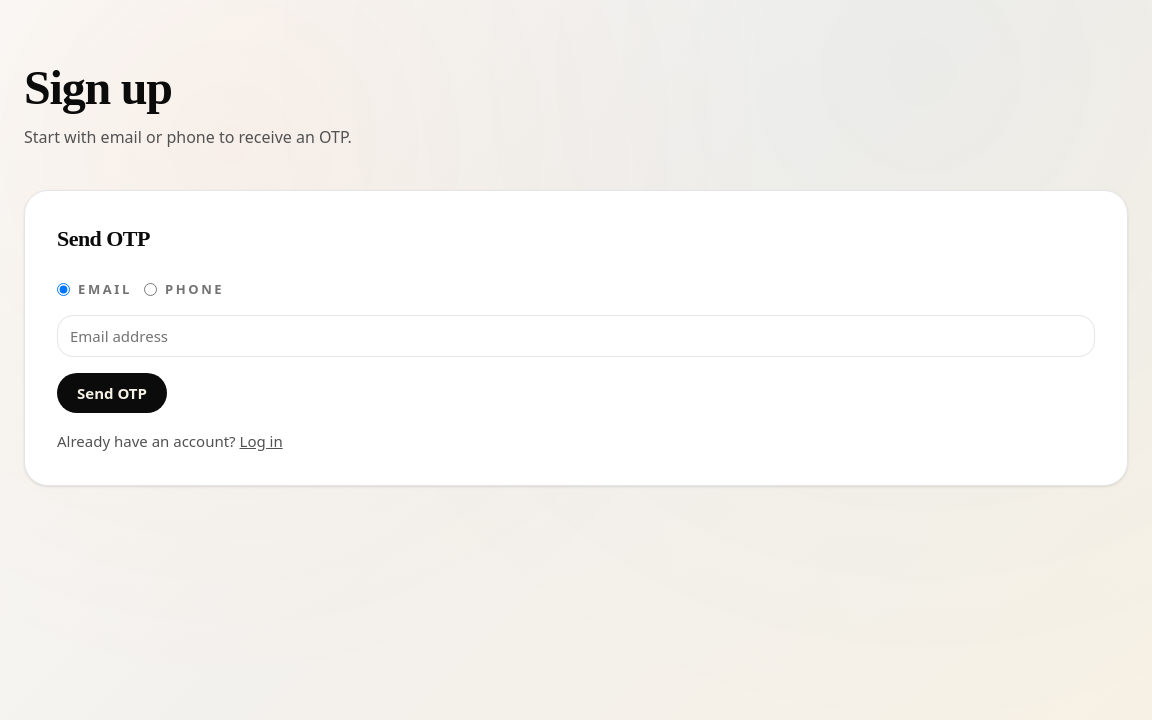
Test case: SignupPage › switches to phone mode and surfaces server errors
Click the radio button labelled "Phone": (150, 289) [144,282,157,296]
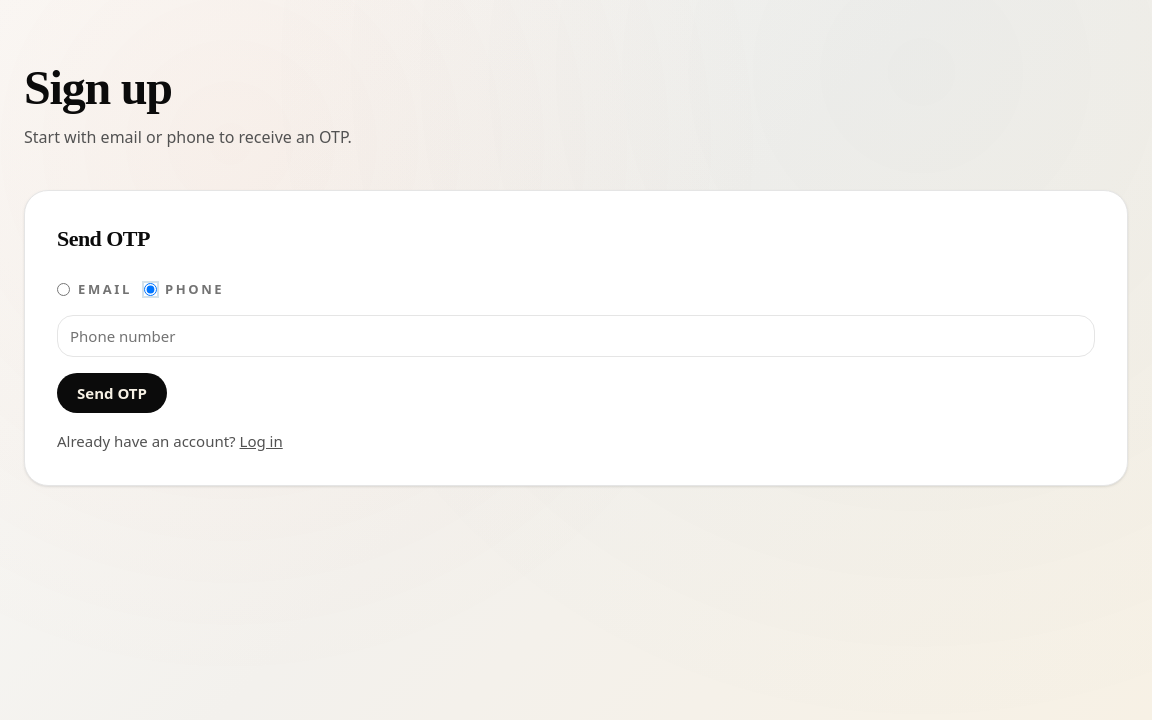
In the field with placeholder "Phone number": (576, 336) [57,315,1095,357], type "9876543210"
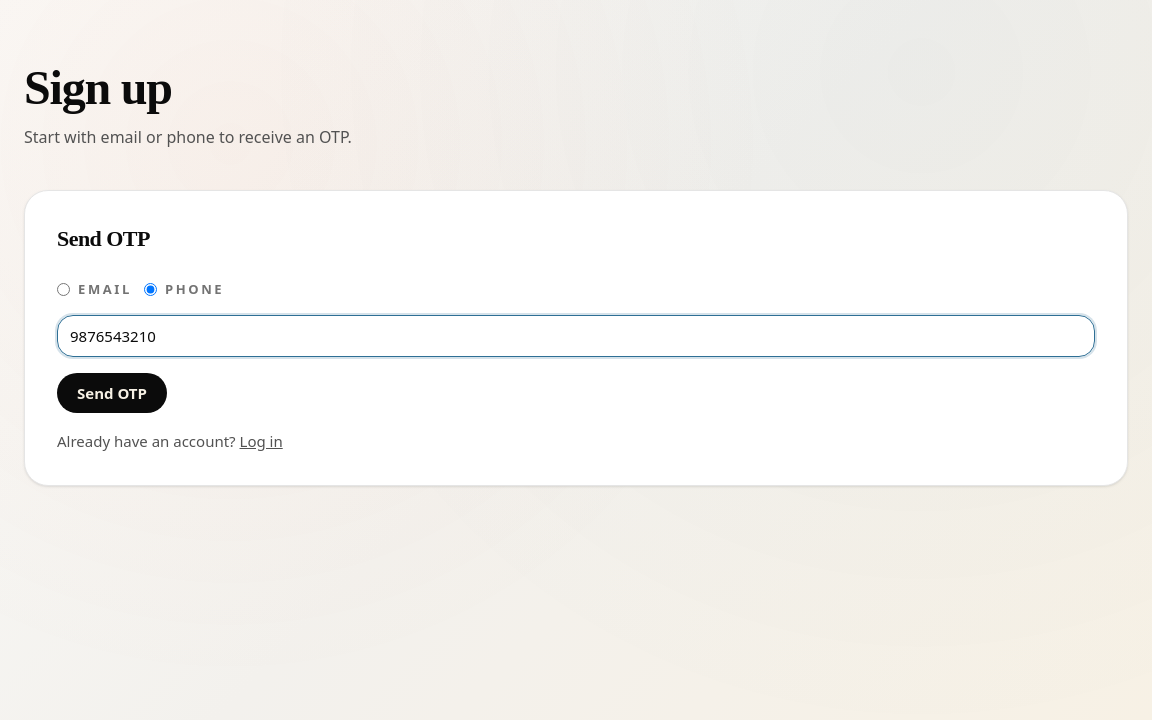
Click the button "Send OTP": (112, 393) [57,373,167,413]
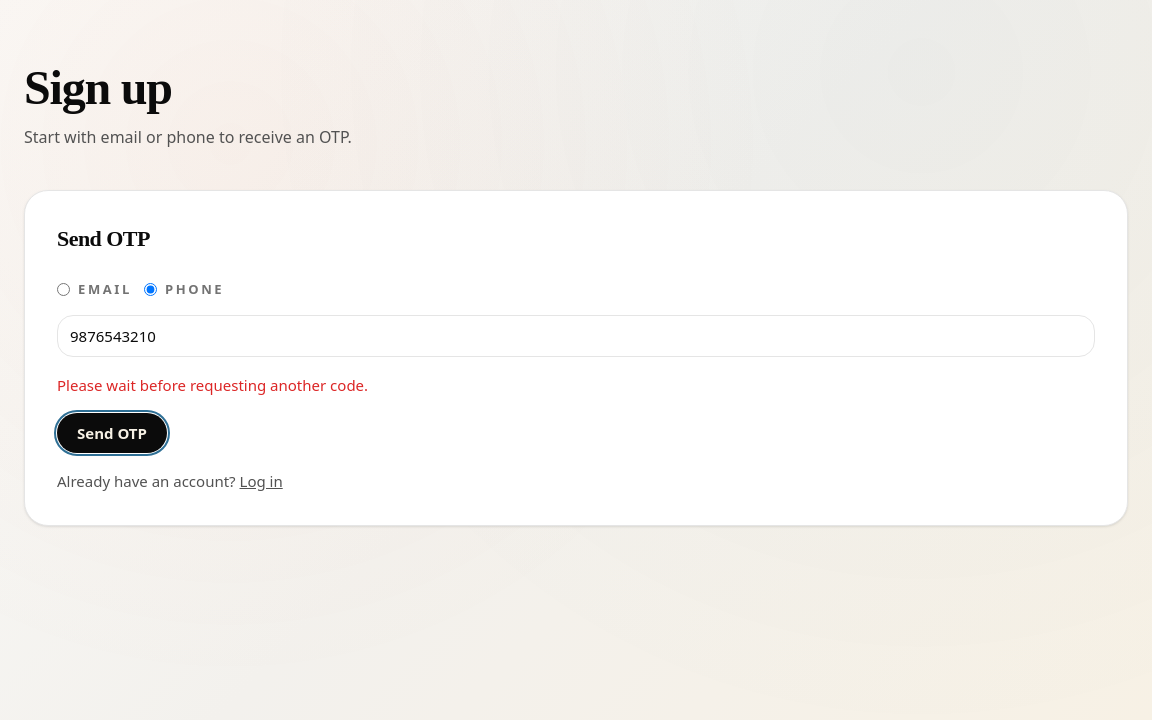
Expected: the text "Please wait before requesting another code." is shown, [57,375,368,395]
